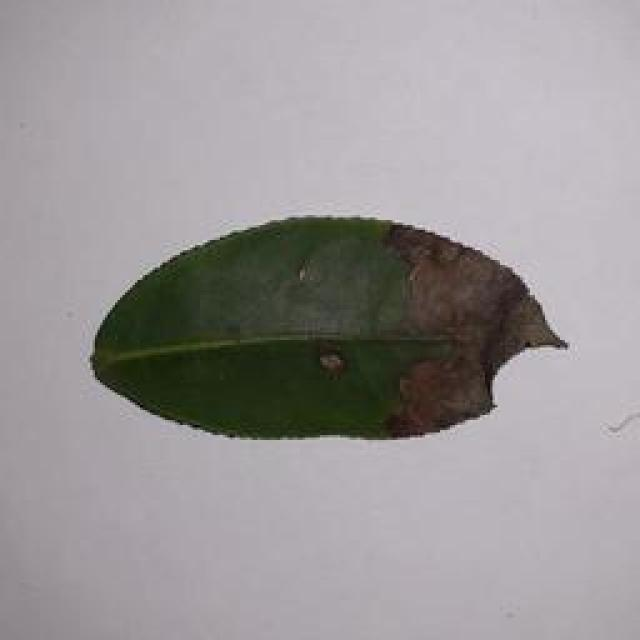Brown Blight: (72, 204, 578, 448)
